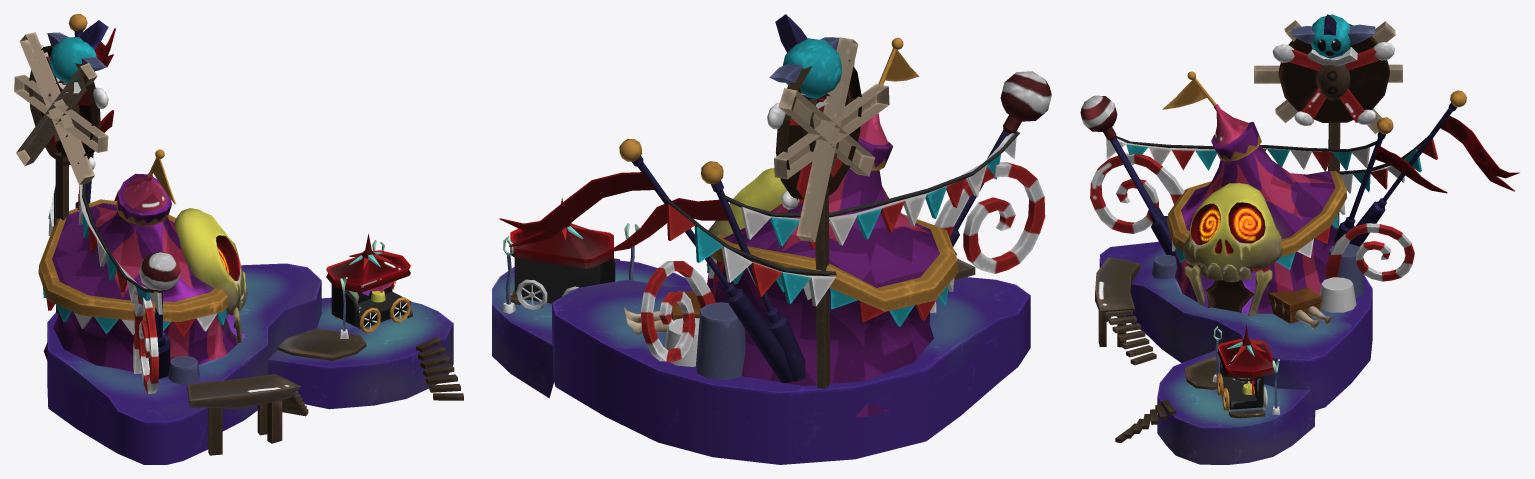
File: base_funny.fbx
The picture shows the model from 3 angles, left to right: view 1: azimuth 30°, elevation 25°; view 2: azimuth 150°, elevation 25°; view 3: azimuth 270°, elevation 25°; orthographic projection. The views are drawn at different scales.
Visible parts, largest first — view 1: base_funny; view 2: base_funny; view 3: base_funny.
Boxes of the visible parts, bbox=[...] form: base_funny: bbox=[14, 14, 463, 464]; base_funny: bbox=[492, 14, 1051, 464]; base_funny: bbox=[1080, 14, 1519, 464].
Size of the model in its own units: 2192 by 2047 by 2505.
Materials: 1 (1 with a texture image).
